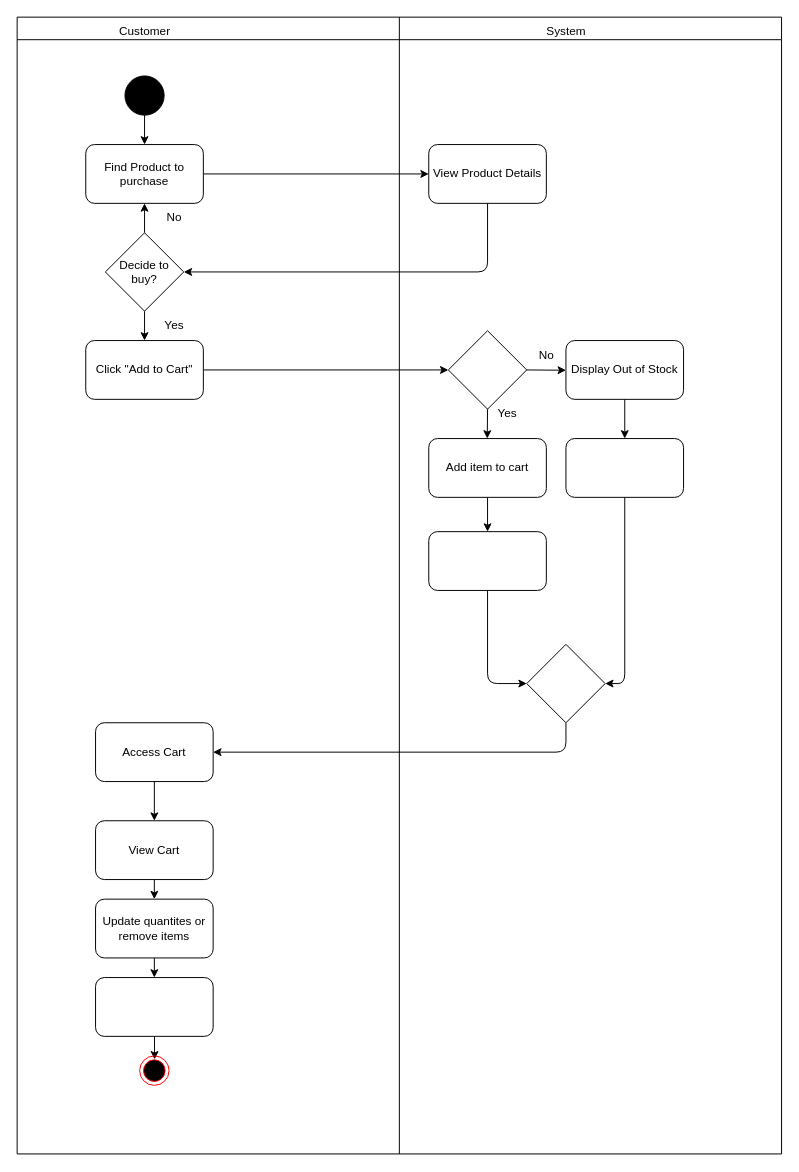
Image size: 799x1172. Some labels were removed from this diagram. Here are the shapes that lost their labels. From the top down, the centre of each, then its label:
pixel 487 369: Items available?
pixel 624 467: Join waiting list or email notifcations
pixel 487 560: Display Confirmation Message
pixel 154 1006: Apply Discounts
